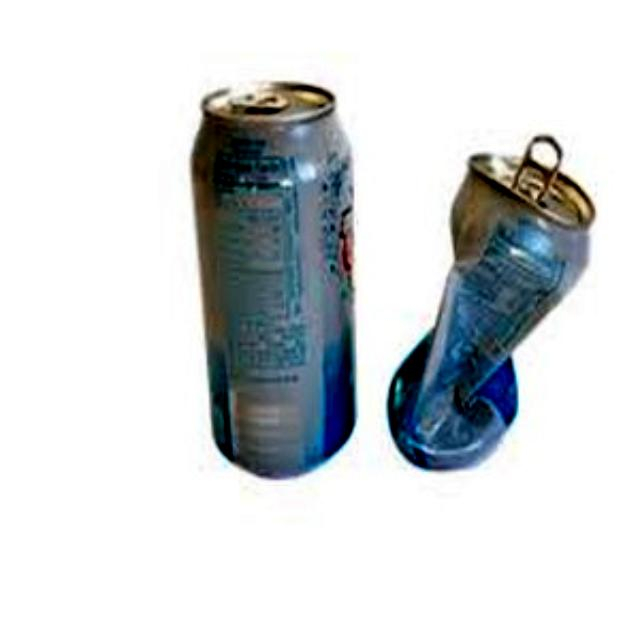Metal: (382, 136, 594, 482), (189, 73, 363, 480)
